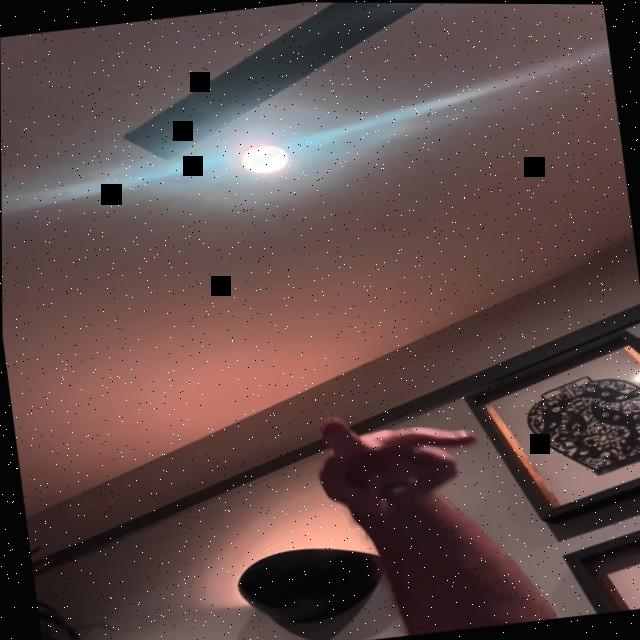Scissors: (308, 401, 483, 521)
